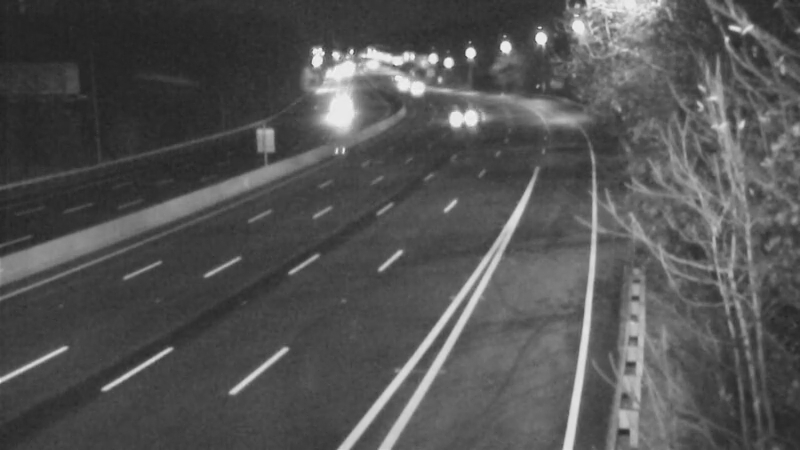vehicle: (391, 63, 441, 113), (438, 92, 488, 142), (318, 87, 368, 137)
